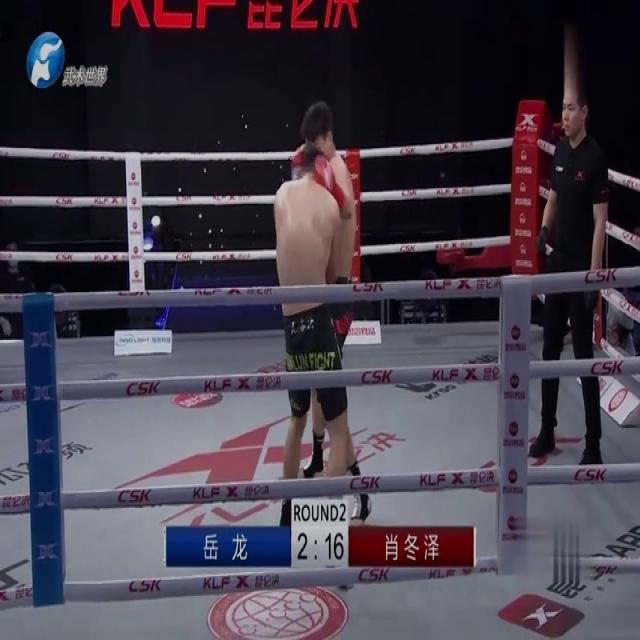fight: (273, 144, 348, 530), (285, 104, 357, 476)
non-fight: (528, 87, 606, 466)
